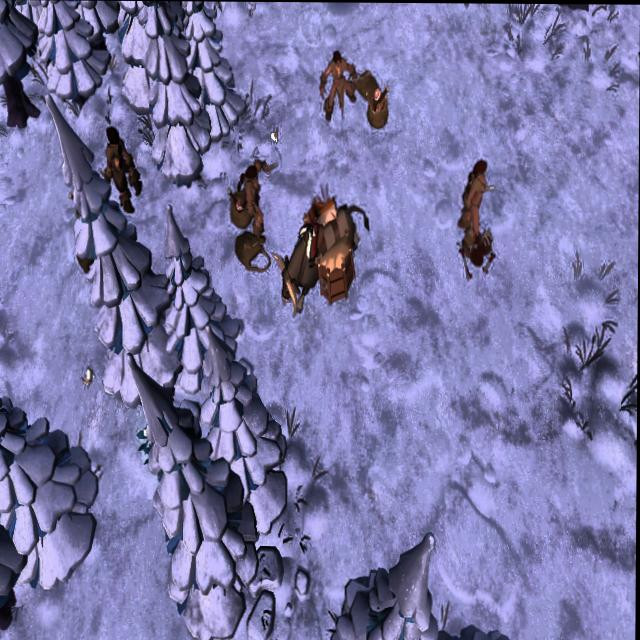enemy_factionKeeper: (458, 153, 498, 249), (106, 124, 145, 214), (319, 48, 360, 125), (244, 153, 273, 243)
